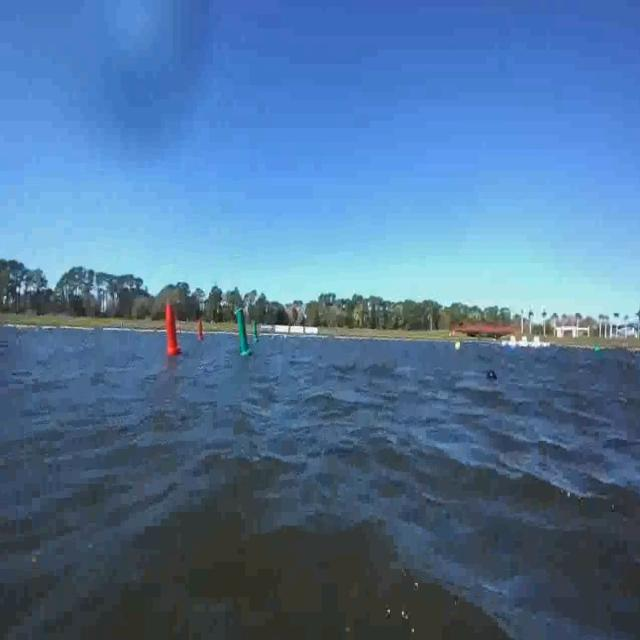green-buoy: (594, 344, 602, 356)
green-column-buoy: (235, 308, 253, 357), (252, 320, 259, 344)
red-column-buoy: (165, 303, 182, 357), (198, 321, 207, 344)
yellow-buoy: (453, 341, 460, 354)
